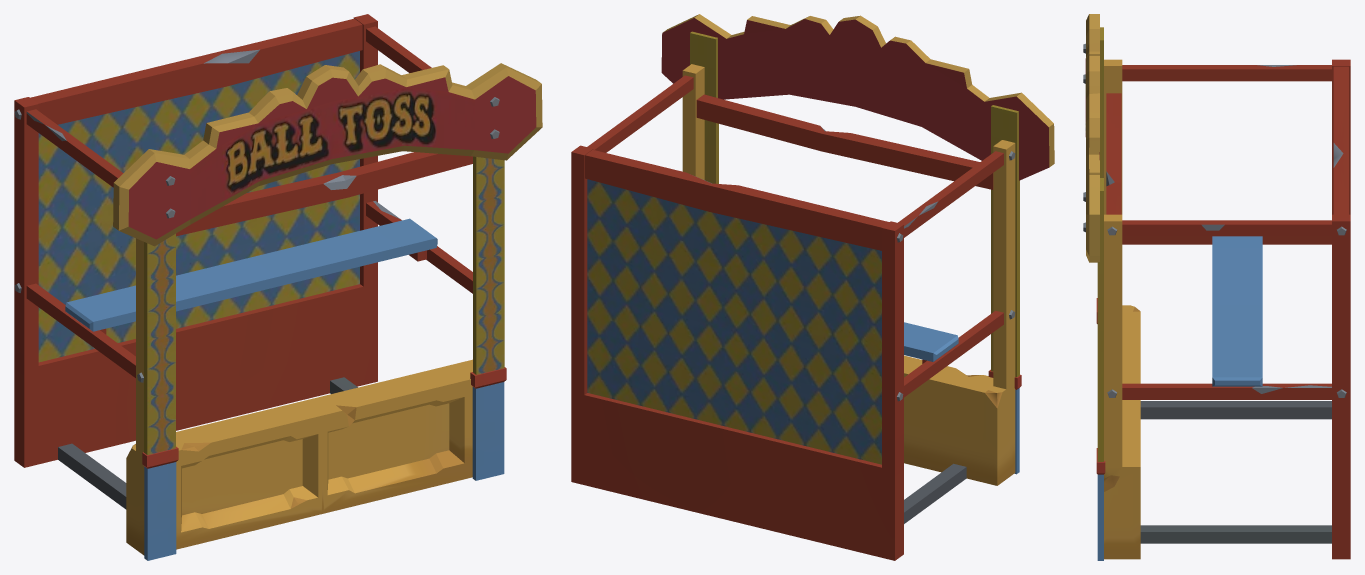
File: can-toss.glb
The picture shows the model from 3 angles, left to right: view 1: azimuth 30°, elevation 25°; view 2: azimuth 150°, elevation 25°; view 3: azimuth 270°, elevation 25°; orthographic projection. The views are drawn at different scales.
Parts seen in each view (by area): view 1: SM_Prop_Can_Toss_01; view 2: SM_Prop_Can_Toss_01; view 3: SM_Prop_Can_Toss_01.
Part boxes in pixels (x1=…): SM_Prop_Can_Toss_01: x1=14, y1=14, x2=542, y2=560; SM_Prop_Can_Toss_01: x1=571, y1=14, x2=1054, y2=560; SM_Prop_Can_Toss_01: x1=1083, y1=14, x2=1350, y2=560.
Bounding box in the file's own units: 235 × 239 × 137.
Materials: 1 (1 with a texture image).
